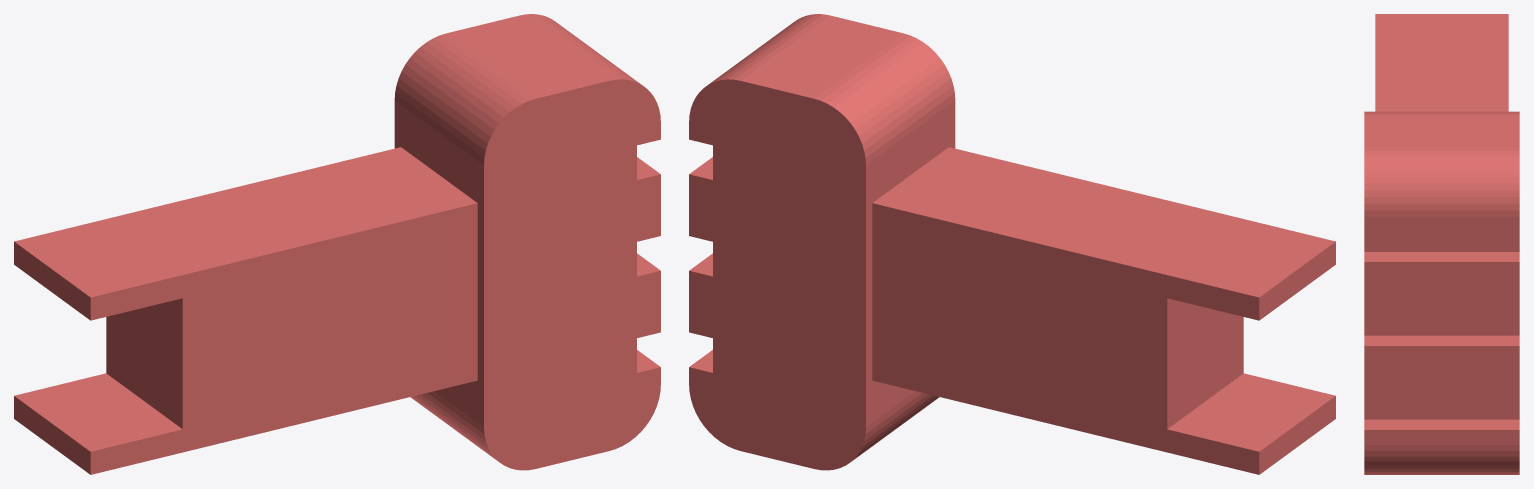
File: PowerSlider.glb
3 renders of one model, left to right at view 1: azimuth 30°, elevation 25°; view 2: azimuth 150°, elevation 25°; view 3: azimuth 270°, elevation 25°, orthographic. The views are drawn at different scales.
Parts seen in each view (by area): view 1: geometry_0; view 2: geometry_0; view 3: geometry_0.
Part boxes in pixels (x1,y1,x2,y2): geometry_0: (14, 14, 660, 474); geometry_0: (689, 14, 1335, 474); geometry_0: (1364, 14, 1519, 474).
Bounding box in the file's own units: 7.65 × 4.8 × 2.1.
